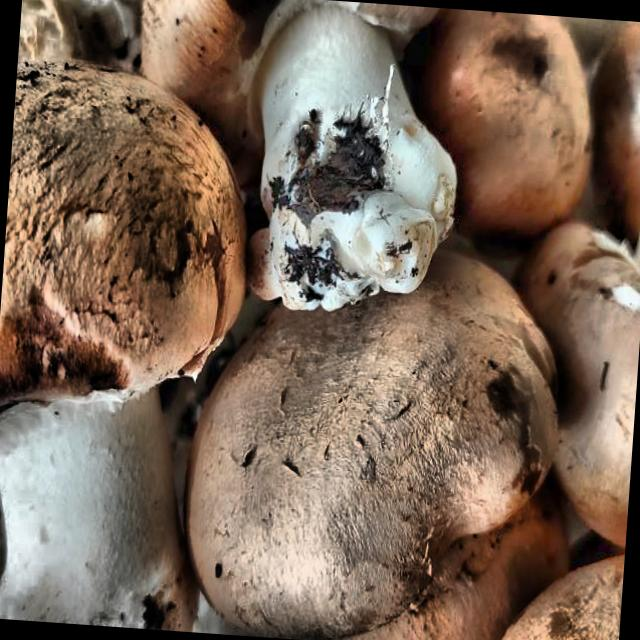Affected: (0, 107, 261, 408), (465, 314, 588, 532)
